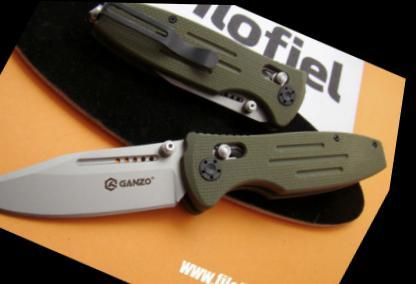knife: (0, 65, 228, 281)
